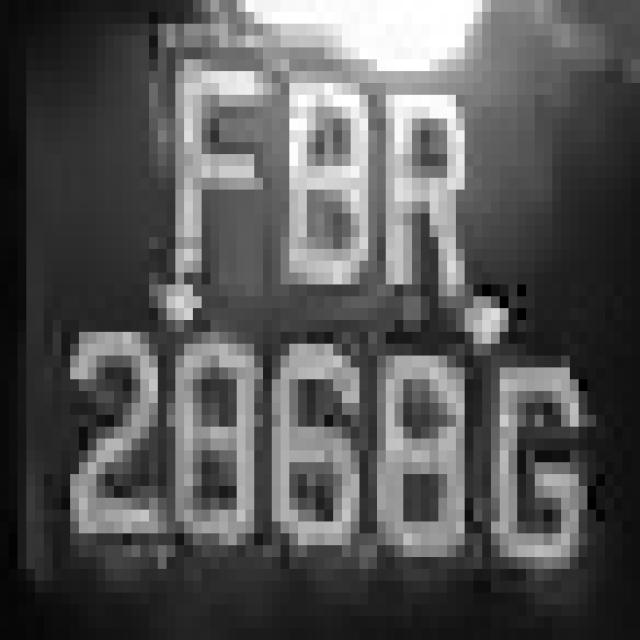2: (35, 284, 175, 557)
6: (263, 308, 368, 569)
8: (368, 308, 474, 569), (166, 285, 272, 545)
B: (254, 36, 377, 308)
F: (149, 24, 263, 344)
G: (482, 308, 596, 581)
R: (377, 47, 473, 344)
